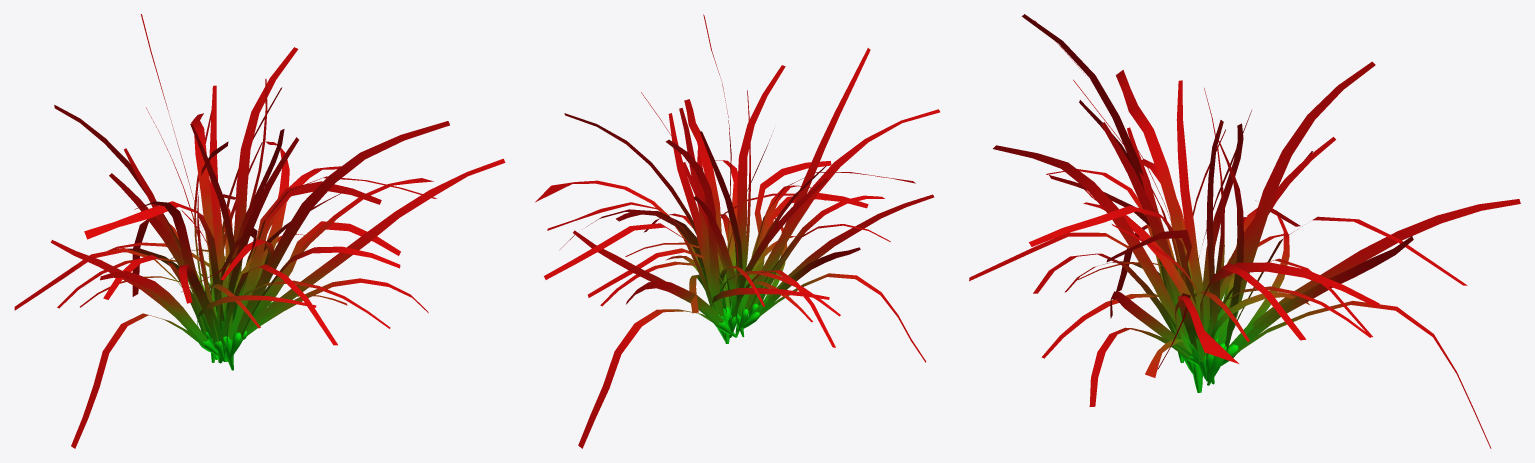
Rendered from QXL_Ribbon_Grass_tbdpec3r_0_LOD1.fbx.
3 renders of one model, left to right at view 1: azimuth 30°, elevation 25°; view 2: azimuth 150°, elevation 25°; view 3: azimuth 270°, elevation 25°, orthographic. The views are drawn at different scales.
Parts seen in each view (by area): view 1: Var1_LOD1; view 2: Var1_LOD1; view 3: Var1_LOD1.
Boxes of the visible parts, x1,y1,x2,y2 form: Var1_LOD1: (14, 14, 505, 448); Var1_LOD1: (535, 14, 939, 448); Var1_LOD1: (969, 14, 1520, 448).
Size of the model in its own units: 70.82 by 54.1 by 72.87.
